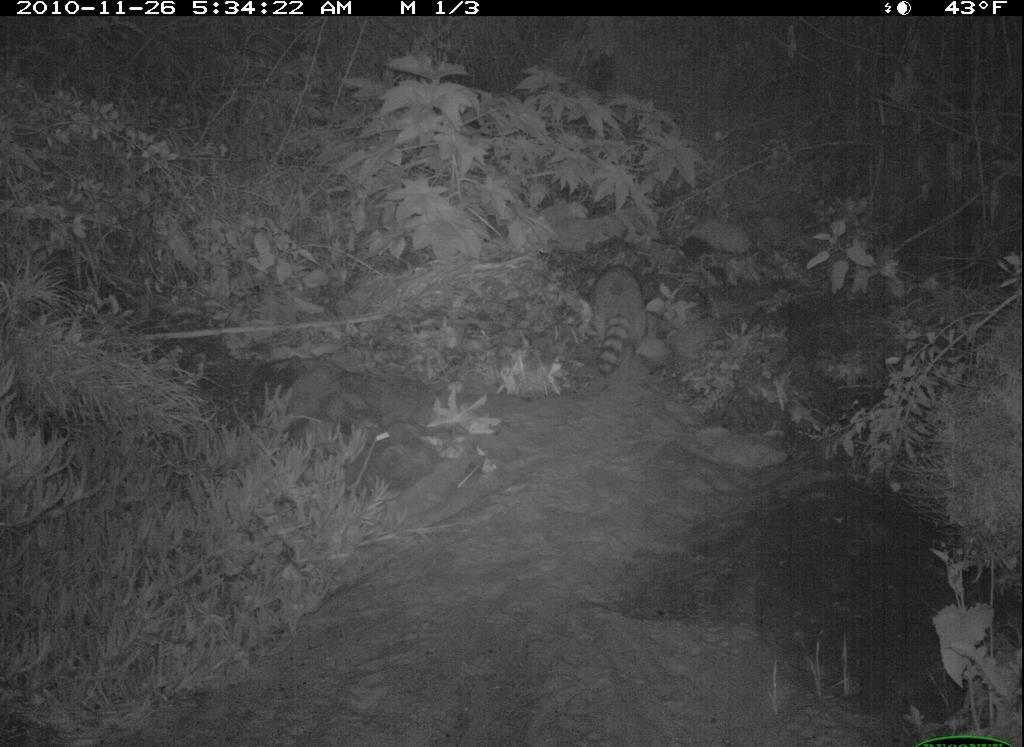raccoon: (585, 254, 657, 390)
